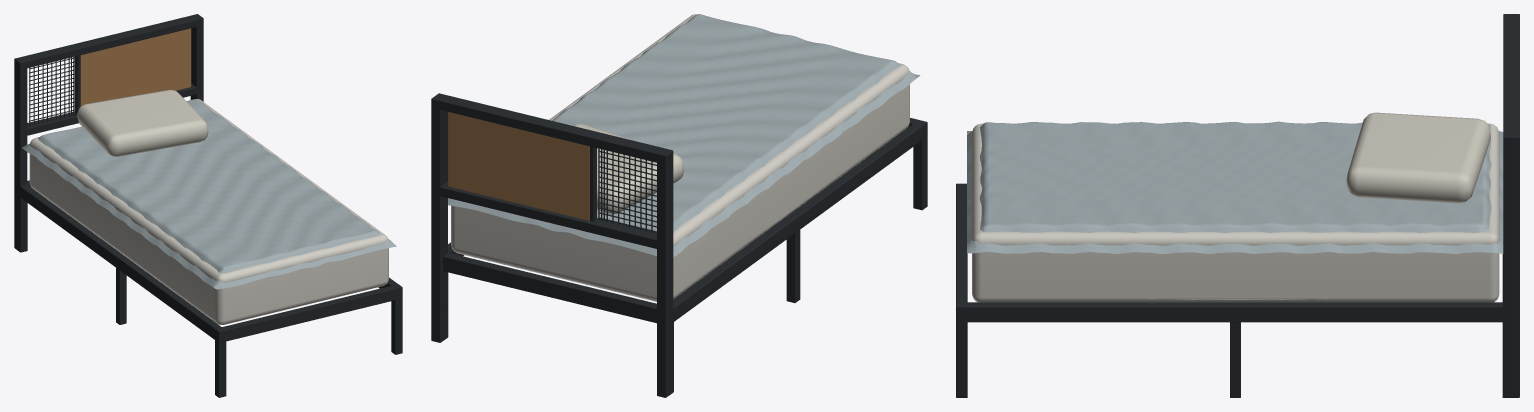
File: bed_single.glb
The picture shows the model from 3 angles, left to right: view 1: azimuth 30°, elevation 25°; view 2: azimuth 150°, elevation 25°; view 3: azimuth 270°, elevation 25°; orthographic projection. The views are drawn at different scales.
Visible parts, largest first — view 1: bed_single; view 2: bed_single; view 3: bed_single.
Part boxes in pixels (x1=…): bed_single: x1=14, y1=14, x2=402, y2=397; bed_single: x1=431, y1=14, x2=927, y2=397; bed_single: x1=956, y1=14, x2=1519, y2=397.
Size of the model in its own units: 1.05 by 1.04 by 2.04.
